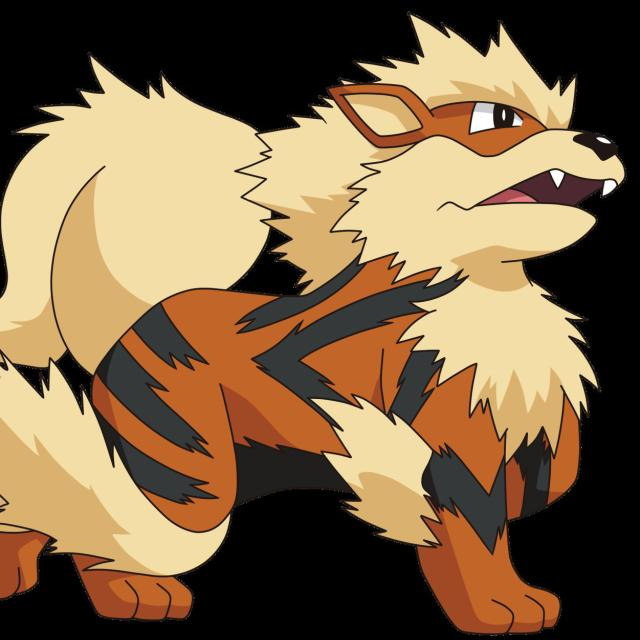Arcanine: (0, 65, 628, 622)
